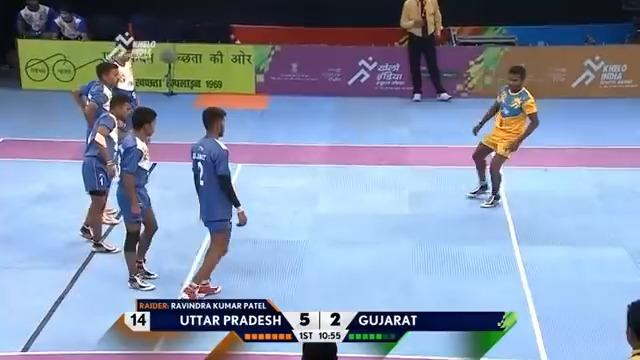Player: (177, 104, 248, 301), (125, 113, 154, 267), (89, 91, 115, 256), (99, 30, 141, 100), (95, 62, 124, 92)
Raider: (464, 62, 540, 209)
referee: (394, 0, 453, 102), (624, 298, 639, 358)
